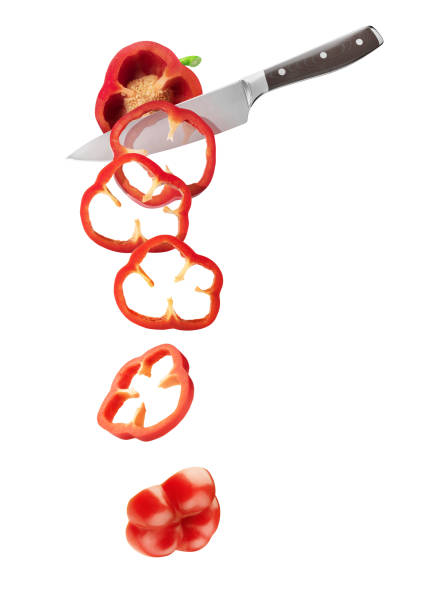knife: (63, 22, 384, 164)
